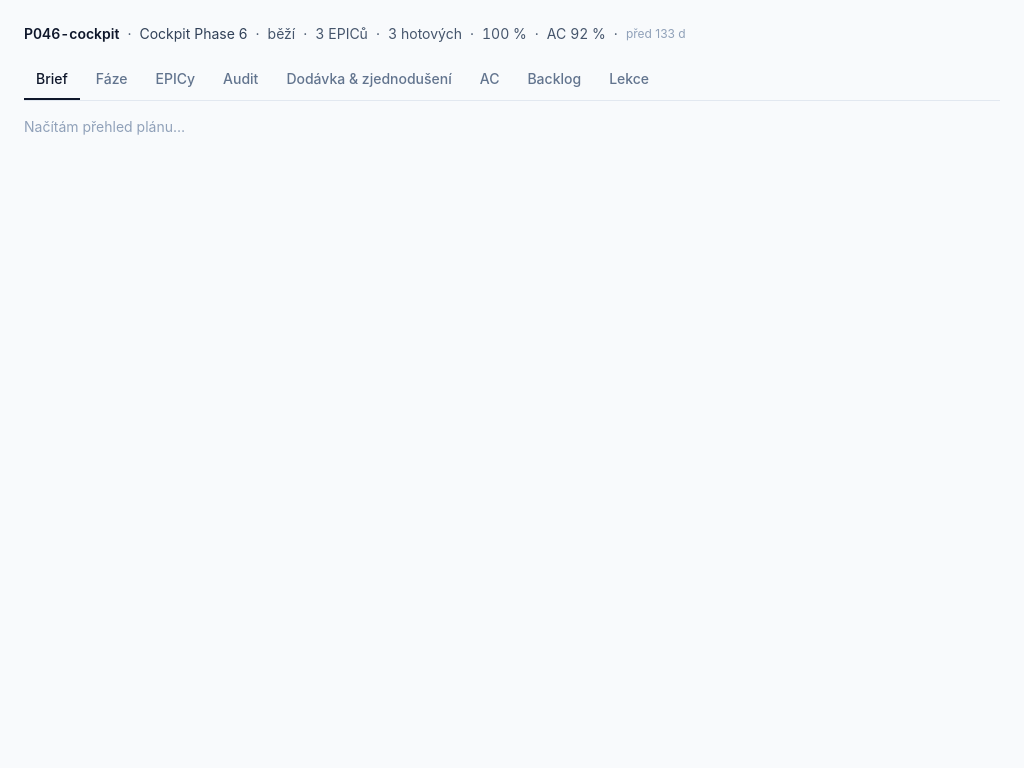
Test case: ScreenPlan — plan detail tabs › boundaryAudit absent but aggregate scored → "auditor zatím neběžel" + still shows aggregate
The width and height of the screenshot is (1024, 768).
Expected: the element that starts with "P046-cockpit" is shown, [24,25,686,42]
What coordinates should you click on to do the following:
click the tab "Audit"
I would click on:
 (241, 80)
Its box is [211,60,270,100].
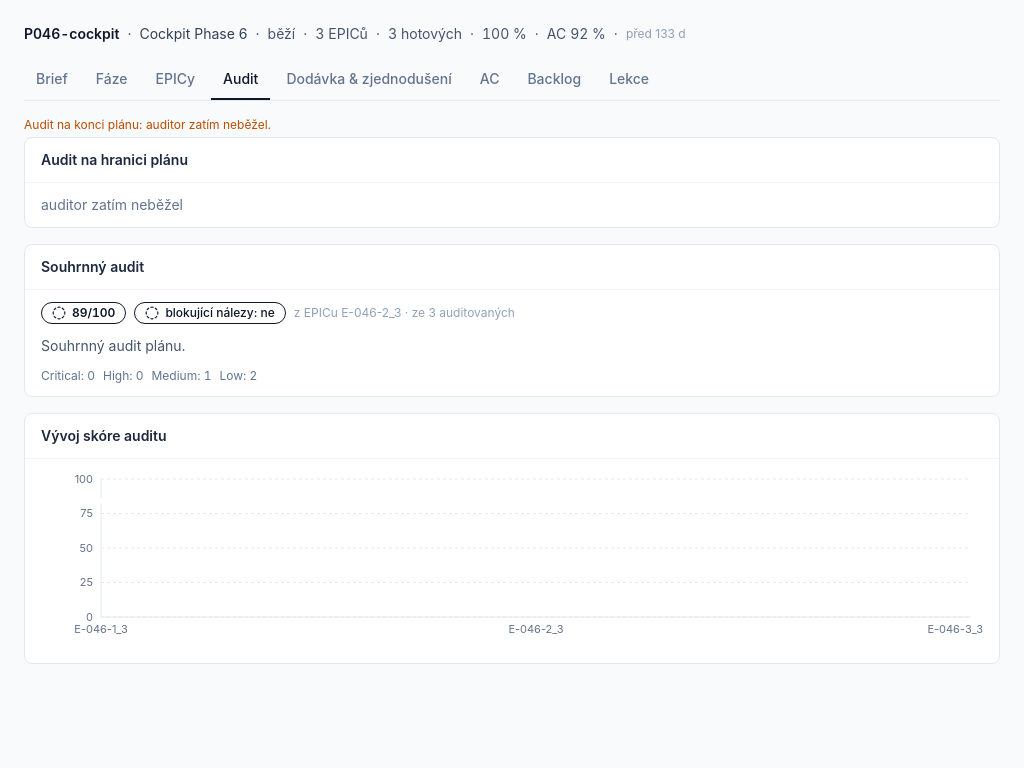
Now the text "Audit na konci plánu: auditor zatím neběžel." is shown, box [24,117,271,132]
Now the text "auditor zatím neběžel" is shown, box [41,196,183,213]
Now the text "89/100" is shown, box [41,302,126,324]
